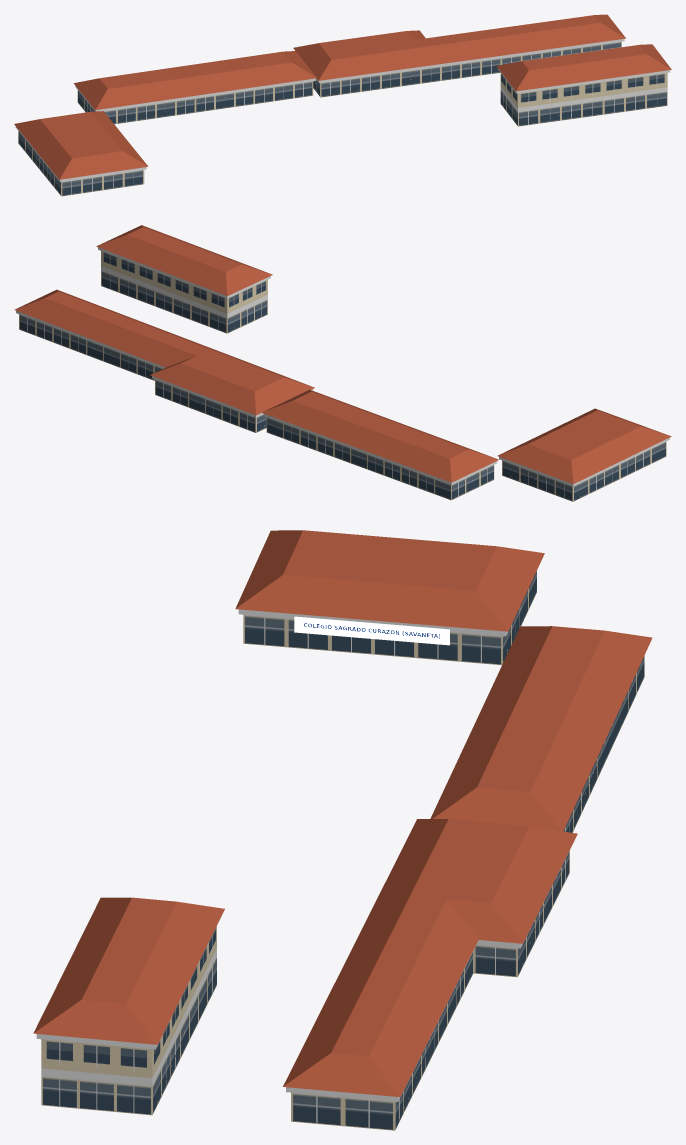
File: sagradocurazon.glb
The picture shows the model from 3 angles, top to bottom: view 1: azimuth 30°, elevation 25°; view 2: azimuth 150°, elevation 25°; view 3: azimuth 270°, elevation 25°; orthographic projection. The views are drawn at different scales.
Parts seen in each view (by area): view 1: sagradocurazon_lod0; view 2: sagradocurazon_lod0; view 3: sagradocurazon_lod0.
Part boxes in pixels (x1,y1,x2,y2): sagradocurazon_lod0: (14,14,671,196); sagradocurazon_lod0: (14,225,671,501); sagradocurazon_lod0: (33,530,652,1130).
Size of what is drawn, in the model's own units: 118 by 9.19 by 54.61.
Materials: 5 (3 with a texture image).
